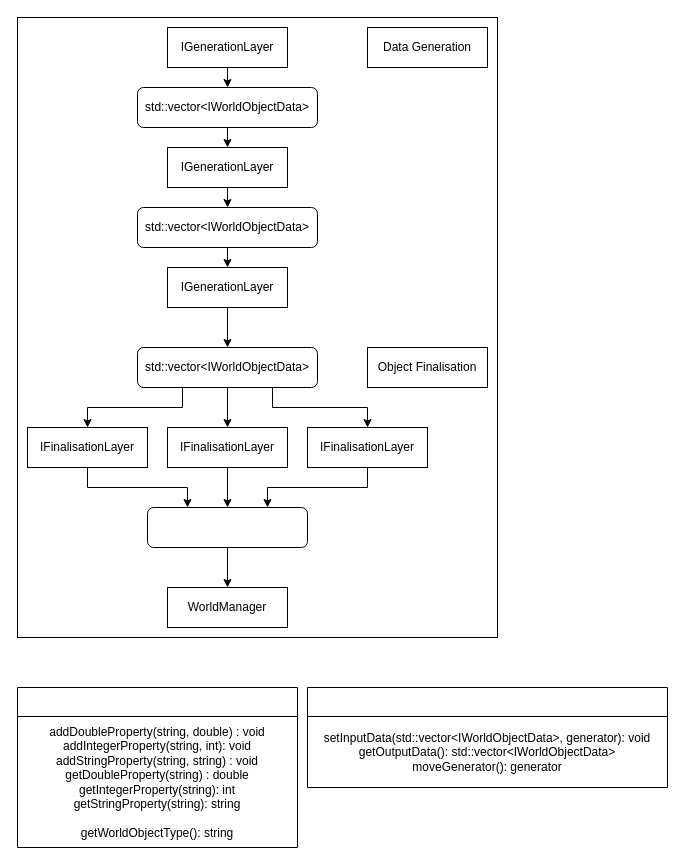
This 685x865 diagram has some shape labels left out. The shapes that lost their labels are listed below. From the top down, each one's box as (x1, y1, x2, y2) in pixels, then its label:
(146, 506, 308, 548): std::vector<IWorldObject>
(306, 686, 668, 788): <<interface>> IGenerationLayer
(16, 686, 298, 848): <<interface>> IWorldObjectData
